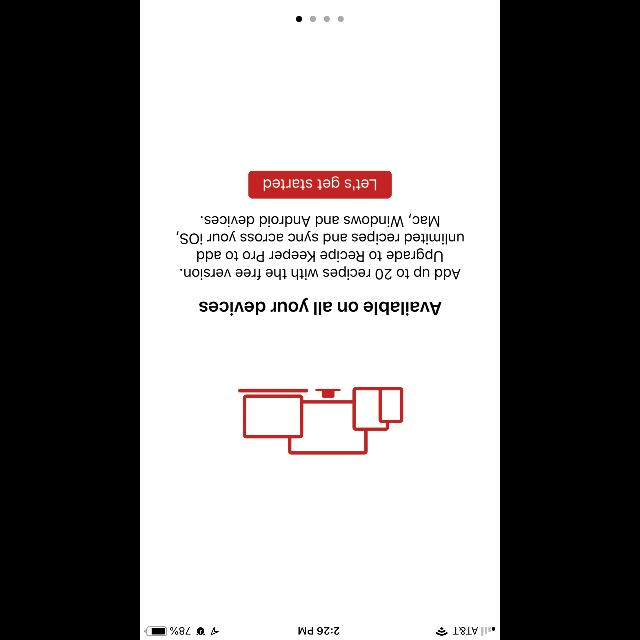image: (238, 387, 404, 455)
pageindicator: (296, 16, 344, 22)
text: (176, 213, 464, 280), (199, 298, 441, 316)
textbutton: (248, 170, 392, 198)
uppertaskbar: (140, 626, 500, 640)
